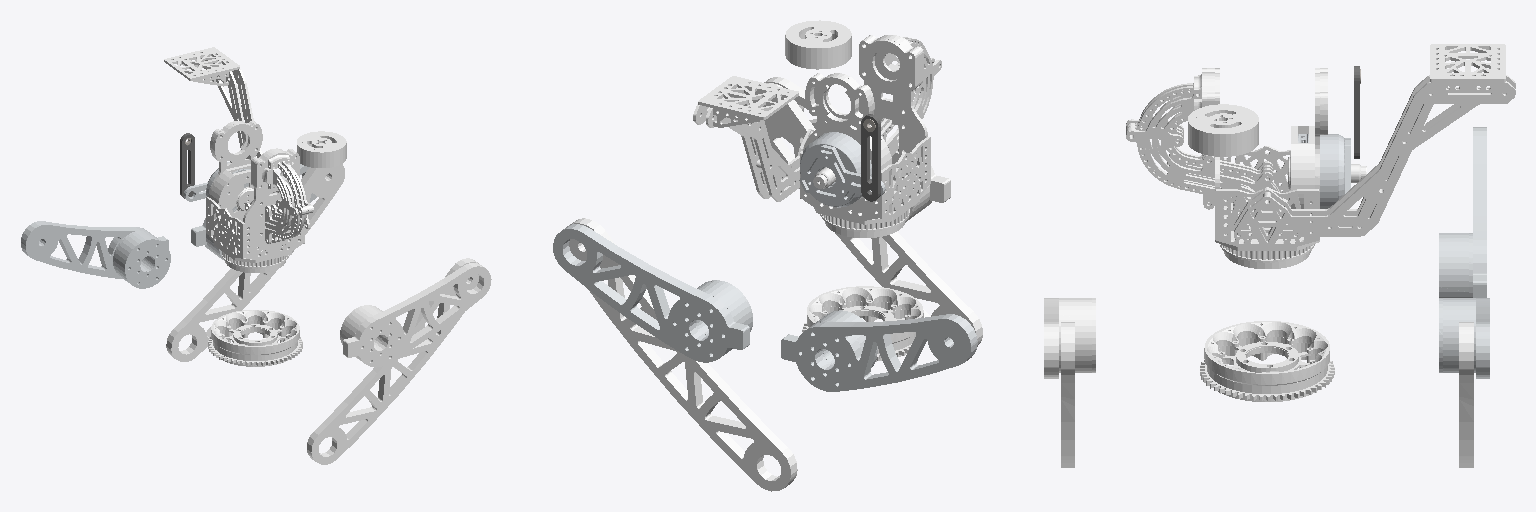
robot.urdf — RMInfantry_Complation_Vision.SLDASM:
<?xml version='1.0' encoding='utf-8'?>
<robot name="RMInfantry_Complation_Vision.SLDASM">
  <mujoco>
    <compiler meshdir="../meshes/" balanceinertia="true" discardvisual="false" />
  </mujoco>
  
  <link name="world" />
  <joint name="floating_base_joint" type="floating">
    <parent link="world" />
    <child link="base_link" />
  </joint>
  
  <link name="base_link">
    <inertial>
      <origin xyz="-0.003111 0.0015208 0.10627" rpy="0 0 0" />
      <mass value="16.77493621" />
      <inertia ixx="0.018047" ixy="6.8169E-06" ixz="-9.2205E-06" iyy="0.05196" iyz="1.6151E-05" izz="0.05484" />
    </inertial>
    <visual>
      <origin xyz="0 0 0" rpy="0 0 0" />
      <geometry>
        <mesh filename="../meshes/base_link.STL" />
      </geometry>
      <material name="">
        <color rgba="0.50196 0.50196 0.50196 1" />
      </material>
    </visual>
    <collision>
      <origin xyz="0 0 0" rpy="0 0 0" />
      <geometry>
        <mesh filename="../meshes/base_link.STL" />
      </geometry>
    </collision>
  </link>
  <link name="left_front_hip_link">
    <inertial>
      <origin xyz="0.032281 0.032438 0.011151" rpy="0 0 0" />
      <mass value="0.25279841" />
      <inertia ixx="0.00013252" ixy="-5.8425E-19" ixz="-0.00014865" iyy="0.00064137" iyz="3.8933E-18" izz="0.00052206" />
    </inertial>
    <visual>
      <origin xyz="0 0 0" rpy="0 0 0" />
      <geometry>
        <mesh filename="../meshes/left_front_hip_link.STL" />
      </geometry>
      <material name="">
        <color rgba="0.89804 0.91373 0.92549 1" />
      </material>
    </visual>
    <collision>
      <origin xyz="0 0 0" rpy="0 0 0" />
      <geometry>
        <mesh filename="../meshes/left_front_hip_link.STL" />
      </geometry>
    </collision>
  </link>
  <joint name="left_front_hip_joint" type="continuous">
    <origin xyz="0.065 0.1423 0.127" rpy="0 0 0" />
    <parent link="base_link" />
    <child link="left_front_hip_link" />
    <axis xyz="0 1 0" />
  </joint>
  <link name="left_front_knee_link">
    <inertial>
      <origin xyz="-0.089345 0.006 -0.086713" rpy="0 0 0" />
      <mass value="0.21937234" />
      <inertia ixx="0.00085145" ixy="-3.8325E-18" ixz="-0.00087832" iyy="0.0018691" iyz="-9.3363E-21" izz="0.0010229" />
    </inertial>
    <visual>
      <origin xyz="0 0 0" rpy="0 0 0" />
      <geometry>
        <mesh filename="../meshes/left_front_knee_link.STL" />
      </geometry>
      <material name="">
        <color rgba="1 1 1 1" />
      </material>
    </visual>
    <collision>
      <origin xyz="0 0 0" rpy="0 0 0" />
      <geometry>
        <mesh filename="../meshes/left_front_knee_link.STL" />
      </geometry>
    </collision>
  </link>
  <joint name="left_front_knee_joint" type="continuous">
    <origin xyz="0.12968 0.0194 0.047199" rpy="0 0 0" />
    <parent link="left_front_hip_link" />
    <child link="left_front_knee_link" />
    <axis xyz="0 1 0" />
  </joint>
  
  
  <link name="left_rear_hip_link">
    <inertial>
      <origin xyz="-0.0369979002010859 0.0309982603546195 0.0127965807004653" rpy="0 0 0" />
      <mass value="0.25816986" />
      <inertia ixx="0.000140702499108914" ixy="3.36923885329177E-19" ixz="0.000174370684953426" iyy="0.000715454259986006" iyz="-2.87113325481111E-18" izz="0.00058595009125451" />
    </inertial>
    <visual>
      <origin xyz="0 0 0" rpy="0 0 0" />
      <geometry>
        <mesh filename="../meshes/left_rear_hip_link.STL" />
      </geometry>
      <material name="">
        <color rgba="0.898039215686275 0.913725490196078 0.925490196078431 1" />
      </material>
    </visual>
    <collision>
      <origin xyz="0 0 0" rpy="0 0 0" />
      <geometry>
        <mesh filename="../meshes/left_rear_hip_link.STL" />
      </geometry>
    </collision>
  </link>
  <joint name="left_rear_hip_joint" type="continuous">
    <origin xyz="-0.065 0.1423 0.127" rpy="0 0 0" />
    <parent link="base_link" />
    <child link="left_rear_hip_link" />
    <axis xyz="0 1 0" />
  </joint>
  <link name="left_rear_knee_link">
    <inertial>
      <origin xyz="0.10163 0.02 -0.097327" rpy="0 0 0" />
      <mass value="0.22140128" />
      <inertia ixx="0.00094302" ixy="-2.1222E-17" ixz="0.00095354" iyy="0.0021043" iyz="-1.955E-17" izz="0.0011666" />
    </inertial>
    <visual>
      <origin xyz="0 0 0" rpy="0 0 0" />
      <geometry>
        <mesh filename="../meshes/left_rear_knee_link.STL" />
      </geometry>
      <material name="">
        <color rgba="1 1 1 1" />
      </material>
    </visual>
    <collision>
      <origin xyz="0 0 0" rpy="0 0 0" />
      <geometry>
        <mesh filename="../meshes/left_rear_knee_link.STL" />
      </geometry>
    </collision>
  </link>
  <joint name="left_rear_knee_joint" type="continuous">
    <origin xyz="-0.12968 0.0309 0.047199" rpy="0 0 0" />
    <parent link="left_rear_hip_link" />
    <child link="left_rear_knee_link" />
    <axis xyz="0 1 0" />
  </joint>
  <link name="left_chassis_wheel_link">
    <inertial>
      <origin xyz="-5.5954E-06 0.036068 -3.5474E-06" rpy="0 0 0" />
      <mass value="1.24506308" />
      <inertia ixx="0.0006003" ixy="3.2833E-08" ixz="1.2544E-08" iyy="0.0011204" iyz="-2.7525E-09" izz="0.0006003" />
    </inertial>
    <visual>
      <origin xyz="0 0 0" rpy="0 0 0" />
      <geometry>
        <mesh filename="../meshes/left_chassis_wheel_link.STL" />
      </geometry>
      <material name="">
        <color rgba="1 1 1 1" />
      </material>
    </visual>
    <collision>
      <origin xyz="0 0 0" rpy="0 0 0" />
      <geometry>
        <mesh filename="../meshes/left_chassis_wheel_link.STL" />
      </geometry>
    </collision>
  </link>
  <joint name="left_chassis_wheel_joint" type="continuous">
    <origin xyz="0.19468 0.013 -0.17534" rpy="0 0 0" />
    <parent link="left_rear_knee_link" />
    <child link="left_chassis_wheel_link" />
    <axis xyz="0 1 0" />
  </joint>
  
  <link name="right_front_hip_link">
    <inertial>
      <origin xyz="0.032281 -0.032438 0.011151" rpy="0 0 0" />
      <mass value="0.25279841" />
      <inertia ixx="0.00013252" ixy="-2.9699E-18" ixz="-0.00014865" iyy="0.00064137" iyz="3.4055E-18" izz="0.00052206" />
    </inertial>
    <visual>
      <origin xyz="0 0 0" rpy="0 0 0" />
      <geometry>
        <mesh filename="../meshes/right_front_hip_link.STL" />
      </geometry>
      <material name="">
        <color rgba="1 1 1 1" />
      </material>
    </visual>
    <collision>
      <origin xyz="0 0 0" rpy="0 0 0" />
      <geometry>
        <mesh filename="../meshes/right_front_hip_link.STL" />
      </geometry>
    </collision>
  </link>
  <joint name="right_front_hip_joint" type="continuous">
    <origin xyz="0.065000010549327 -0.142300000000003 0.127000001012436" rpy="0 0 0" />
    <parent link="base_link" />
    <child link="right_front_hip_link" />
    <axis xyz="0 -1 0" />
  </joint>
  <link name="right_front_knee_link">
    <inertial>
      <origin xyz="-0.089345 -0.006 -0.086713" rpy="0 0 0" />
      <mass value="0.21937234" />
      <inertia ixx="0.00085145" ixy="1.8229E-18" ixz="-0.00087832" iyy="0.0018691" iyz="1.675E-18" izz="0.0010229" />
    </inertial>
    <visual>
      <origin xyz="0 0 0" rpy="0 0 0" />
      <geometry>
        <mesh filename="../meshes/right_front_knee_link.STL" />
      </geometry>
      <material name="">
        <color rgba="1 1 1 1" />
      </material>
    </visual>
    <collision>
      <origin xyz="0 0 0" rpy="0 0 0" />
      <geometry>
        <mesh filename="../meshes/right_front_knee_link.STL" />
      </geometry>
    </collision>
  </link>
  <joint name="right_front_knee_joint" type="continuous">
    <origin xyz="0.12968 -0.0194 0.047199" rpy="0 0 0" />
    <parent link="right_front_hip_link" />
    <child link="right_front_knee_link" />
    <axis xyz="0 -1 0" />
  </joint>
  
  
  <link name="right_rear_hip_link">
    <inertial>
      <origin xyz="-0.036998 -0.030998 0.012797" rpy="0 0 0" />
      <mass value="0.25816986" />
      <inertia ixx="0.0001407" ixy="-2.4611E-18" ixz="0.00017437" iyy="0.00071545" iyz="-1.1802E-18" izz="0.00058595" />
    </inertial>
    <visual>
      <origin xyz="0 0 0" rpy="0 0 0" />
      <geometry>
        <mesh filename="../meshes/right_rear_hip_link.STL" />
      </geometry>
      <material name="">
        <color rgba="0.89804 0.91373 0.92549 1" />
      </material>
    </visual>
    <collision>
      <origin xyz="0 0 0" rpy="0 0 0" />
      <geometry>
        <mesh filename="../meshes/right_rear_hip_link.STL" />
      </geometry>
    </collision>
  </link>
  <joint name="right_rear_hip_joint" type="continuous">
    <origin xyz="-0.065 -0.1423 0.127" rpy="0 0 0" />
    <parent link="base_link" />
    <child link="right_rear_hip_link" />
    <axis xyz="0 -1 0" />
  </joint>
  <link name="right_rear_knee_link">
    <inertial>
      <origin xyz="0.10163 -0.02 -0.097327" rpy="0 0 0" />
      <mass value="0.22140128" />
      <inertia ixx="0.00094302" ixy="-1.7521E-17" ixz="0.00095354" iyy="0.0021043" iyz="-2.4388E-17" izz="0.0011666" />
    </inertial>
    <visual>
      <origin xyz="0 0 0" rpy="0 0 0" />
      <geometry>
        <mesh filename="../meshes/right_rear_knee_link.STL" />
      </geometry>
      <material name="">
        <color rgba="1 1 1 1" />
      </material>
    </visual>
    <collision>
      <origin xyz="0 0 0" rpy="0 0 0" />
      <geometry>
        <mesh filename="../meshes/right_rear_knee_link.STL" />
      </geometry>
    </collision>
  </link>
  <joint name="right_rear_knee_joint" type="continuous">
    <origin xyz="-0.12968 -0.0309 0.047199" rpy="0 0 0" />
    <parent link="right_rear_hip_link" />
    <child link="right_rear_knee_link" />
    <axis xyz="0 -1 0" />
  </joint>
  <link name="right_chassis_wheel_link">
    <inertial>
      <origin xyz="1.7764E-06 -0.036068 6.3825E-06" rpy="0 0 0" />
      <mass value="1.24506308" />
      <inertia ixx="0.00060029" ixy="-1.2136E-08" ixz="8.6961E-09" iyy="0.0011204" iyz="3.0631E-08" izz="0.00060031" />
    </inertial>
    <visual>
      <origin xyz="0 0 0" rpy="0 0 0" />
      <geometry>
        <mesh filename="../meshes/right_chassis_wheel_link.STL" />
      </geometry>
      <material name="">
        <color rgba="1 1 1 1" />
      </material>
    </visual>
    <collision>
      <origin xyz="0 0 0" rpy="0 0 0" />
      <geometry>
        <mesh filename="../meshes/right_chassis_wheel_link.STL" />
      </geometry>
    </collision>
  </link>
  <joint name="right_chassis_wheel_joint" type="continuous">
    <origin xyz="0.19468 -0.013 -0.17534" rpy="0 0 0" />
    <parent link="right_rear_knee_link" />
    <child link="right_chassis_wheel_link" />
    <axis xyz="0 -1 0" />
  </joint>
  
  <link name="gimbal_yaw_link">
    <inertial>
      <origin xyz="0.0063949 0.01356 0.072584" rpy="0 0 0" />
      <mass value="0.70223299" />
      <inertia ixx="0.0011712" ixy="3.0488E-07" ixz="1.7288E-07" iyy="0.00075986" iyz="-0.00018026" izz="0.00081056" />
    </inertial>
    <visual>
      <origin xyz="0 0 0" rpy="0 0 0" />
      <geometry>
        <mesh filename="../meshes/gimbal_yaw_link.STL" />
      </geometry>
      <material name="">
        <color rgba="1 1 1 1" />
      </material>
    </visual>
    <collision>
      <origin xyz="0 0 0" rpy="0 0 0" />
      <geometry>
        <mesh filename="../meshes/gimbal_yaw_link.STL" />
      </geometry>
    </collision>
  </link>
  <joint name="gimbal_yaw_joint" type="continuous">
    <origin xyz="0 0 0.179" rpy="0 0 0" />
    <parent link="base_link" />
    <child link="gimbal_yaw_link" />
    <axis xyz="0 0 1" />
  </joint>
  <link name="gimbal_pitch_motor_link">
    <inertial>
      <origin xyz="-0.00079938 0.00028082 -0.00010689" rpy="0 0 0" />
      <mass value="0.48928842" />
      <inertia ixx="9.5868E-05" ixy="1.2343E-08" ixz="4.6016E-08" iyy="0.00016404" iyz="-4.8477E-07" izz="0.000104" />
    </inertial>
    <visual>
      <origin xyz="0 0 0" rpy="0 0 0" />
      <geometry>
        <mesh filename="../meshes/gimbal_pitch_motor_link.STL" />
      </geometry>
      <material name="">
        <color rgba="0.89412 0.9098 0.92549 1" />
      </material>
    </visual>
    <collision>
      <origin xyz="0 0 0" rpy="0 0 0" />
      <geometry>
        <mesh filename="../meshes/gimbal_pitch_motor_link.STL" />
      </geometry>
    </collision>
  </link>
  <joint name="gimbal_pitch_motor_joint" type="continuous">
    <origin xyz="0 0.04735 0.068" rpy="0 0 0" />
    <parent link="gimbal_yaw_link" />
    <child link="gimbal_pitch_motor_link" />
    <axis xyz="0 1 0" />
  </joint>
  <link name="gimbal_pitch_motor_chrild1_link">
    <inertial>
      <origin xyz="0 0.0025 0.031929" rpy="0 0 0" />
      <mass value="0.013666" />
      <inertia ixx="7.9145E-06" ixy="1.2294E-23" ixz="1.6679E-21" iyy="8.3333E-06" iyz="1.7252E-21" izz="4.7575E-07" />
    </inertial>
    <visual>
      <origin xyz="0 0 0" rpy="0 0 0" />
      <geometry>
        <mesh filename="../meshes/gimbal_pitch_motor_chrild1_link.STL" />
      </geometry>
      <material name="">
        <color rgba="0.50196 0.50196 0.50196 1" />
      </material>
    </visual>
    <collision>
      <origin xyz="0 0 0" rpy="0 0 0" />
      <geometry>
        <mesh filename="../meshes/gimbal_pitch_motor_chrild1_link.STL" />
      </geometry>
    </collision>
  </link>
  <joint name="gimbal_pitch_motor_chrild1_joint" type="continuous">
    <origin xyz="-0.05 0.02585 0" rpy="0 0 0" />
    <parent link="gimbal_pitch_motor_link" />
    <child link="gimbal_pitch_motor_chrild1_link" />
    <axis xyz="0 1 0" />
  </joint>
  <link name="gimbal_pitch_motor_chrild2_link">
    <inertial>
      <origin xyz="-1.90125692967058E-15 0.00695454545454546 -5.55111512312578E-17" rpy="0 0 0" />
      <mass value="0.000259181393921158" />
      <inertia ixx="2.65469197905038E-09" ixy="-8.32345721873143E-25" ixz="-3.1833259621698E-25" iyy="4.62955401783886E-09" iyz="6.12280255373811E-26" izz="2.65469197905038E-09" />
    </inertial>
    <visual>
      <origin xyz="0 0 0" rpy="0 0 0" />
      <geometry>
        <mesh filename="../meshes/gimbal_pitch_motor_chrild2_link.STL" />
      </geometry>
      <material name="">
        <color rgba="0.772549019607843 0.752941176470588 0.733333333333333 1" />
      </material>
    </visual>
    <collision>
      <origin xyz="0 0 0" rpy="0 0 0" />
      <geometry>
        <mesh filename="../meshes/gimbal_pitch_motor_chrild2_link.STL" />
      </geometry>
    </collision>
  </link>
  <joint name="gimbal_pitch_motor_chrild2_joint" type="fixed">
    <origin xyz="0 -0.00285 0.067" rpy="0 0 0" />
    <parent link="gimbal_pitch_motor_chrild1_link" />
    <child link="gimbal_pitch_motor_chrild2_link" />
    <axis xyz="0 1 0" />
  </joint>
  <link name="gimbal_pitch_link">
    <inertial>
      <origin xyz="0.00570445411307587 -0.0357202631780137 0.0241584830663755" rpy="0 0 0" />
      <mass value="2.23648116" />
      <inertia ixx="0.00113734474641569" ixy="-6.04664308296285E-06" ixz="-0.000210962920027997" iyy="0.00190756636329975" iyz="-1.26424750051048E-06" izz="0.00229904338857953" />
    </inertial>
    <visual>
      <origin xyz="0 0 0" rpy="0 0 0" />
      <geometry>
        <mesh filename="../meshes/gimbal_pitch_link.STL" />
      </geometry>
      <material name="">
        <color rgba="1 1 1 1" />
      </material>
    </visual>
    <collision>
      <origin xyz="0 0 0" rpy="0 0 0" />
      <geometry>
        <mesh filename="../meshes/gimbal_pitch_link.STL" />
      </geometry>
    </collision>
  </link>
  <joint name="gimbal_pitch_joint" type="continuous">
    <origin xyz="0 0.043 0.135" rpy="0 0 0" />
    <parent link="gimbal_yaw_link" />
    <child link="gimbal_pitch_link" />
    <axis xyz="0 1 0" />
  </joint>
  <link name="left_frition_wheel_link">
    <inertial>
      <origin xyz="-4.85722573273506E-16 -4.92661467177413E-16 -0.00963369941828784" rpy="0 0 0" />
      <mass value="0.0352426065326721" />
      <inertia ixx="1.22538290554149E-05" ixy="3.2156776745501E-08" ixz="2.05157400208698E-20" iyy="1.21074986152895E-05" iyz="-3.31341520961207E-21" izz="2.16795499210052E-05" />
    </inertial>
    <visual>
      <origin xyz="0 0 0" rpy="0 0 0" />
      <geometry>
        <mesh filename="../meshes/left_frition_wheel_link.STL" />
      </geometry>
      <material name="">
        <color rgba="1 1 1 1" />
      </material>
    </visual>
    <collision>
      <origin xyz="0 0 0" rpy="0 0 0" />
      <geometry>
        <mesh filename="../meshes/left_frition_wheel_link.STL" />
      </geometry>
    </collision>
  </link>
  <joint name="left_frition_wheel_joint" type="continuous">
    <origin xyz="0.07 -0.006 0.0161" rpy="0 0 0" />
    <parent link="gimbal_pitch_link" />
    <child link="left_frition_wheel_link" />
    <axis xyz="0 0 1" />
  </joint>
  <link name="right_frition_wheel_link">
    <inertial>
      <origin xyz="-5.13478148889135E-16 -4.85722573273506E-16 -0.0096336994182879" rpy="0 0 0" />
      <mass value="0.0352426065326721" />
      <inertia ixx="1.22538290554149E-05" ixy="3.21567767455035E-08" ixz="1.99356379167021E-20" iyy="1.21074986152895E-05" iyz="-5.55703725238919E-21" izz="2.16795499210052E-05" />
    </inertial>
    <visual>
      <origin xyz="0 0 0" rpy="0 0 0" />
      <geometry>
        <mesh filename="../meshes/right_frition_wheel_link.STL" />
      </geometry>
      <material name="">
        <color rgba="1 1 1 1" />
      </material>
    </visual>
    <collision>
      <origin xyz="0 0 0" rpy="0 0 0" />
      <geometry>
        <mesh filename="../meshes/right_frition_wheel_link.STL" />
      </geometry>
    </collision>
  </link>
  <joint name="right_frition_wheel_joint" type="continuous">
    <origin xyz="0.07 -0.08 0.0161" rpy="0 0 0" />
    <parent link="gimbal_pitch_link" />
    <child link="right_frition_wheel_link" />
    <axis xyz="0 0 1" />
  </joint>
  
  <link name="feeder_desk_link">
    <inertial>
      <origin xyz="1.8898E-08 -8.1704E-09 -0.0047462" rpy="0 0 0" />
      <mass value="0.069902" />
      <inertia ixx="7.3556E-05" ixy="5.3205E-12" ixz="1.851E-12" iyy="7.3556E-05" iyz="-2.29E-12" izz="0.00014644" />
    </inertial>
    <visual>
      <origin xyz="0 0 0" rpy="0 0 0" />
      <geometry>
        <mesh filename="../meshes/feeder_desk_link.STL" />
      </geometry>
      <material name="">
        <color rgba="1 1 1 1" />
      </material>
    </visual>
    <collision>
      <origin xyz="0 0 0" rpy="0 0 0" />
      <geometry>
        <mesh filename="../meshes/feeder_desk_link.STL" />
      </geometry>
    </collision>
  </link>
  <joint name="feeder_desk_joint" type="continuous">
    <origin xyz="0 0 0.076" rpy="0 0 0" />
    <parent link="base_link" />
    <child link="feeder_desk_link" />
    <axis xyz="0 0 1" />
  </joint>
</robot>

--- Render facts (derived) ---
Views: 3 orthographic renders of the robot side by side, from view 1: azimuth 30°, elevation 25°; view 2: azimuth 150°, elevation 25°; view 3: azimuth 270°, elevation 25°.
Model RMInfantry_Complation_Vision.SLDASM with 20 links and 19 joints (17 continuous, 1 fixed, 1 floating), rooted at world, posed all joints at 0.
Links seen in each view (by area): view 1: gimbal_yaw_link, right_front_hip_link, left_rear_hip_link, right_front_knee_link, left_front_knee_link, feeder_desk_link, right_frition_wheel_link, gimbal_pitch_motor_chrild1_link, left_front_hip_link; view 2: gimbal_yaw_link, left_front_hip_link, left_rear_hip_link, left_front_knee_link, right_front_knee_link, feeder_desk_link, gimbal_pitch_motor_link, right_frition_wheel_link, gimbal_pitch_motor_chrild1_link, right_front_hip_link; view 3: gimbal_yaw_link, feeder_desk_link, left_rear_hip_link, right_frition_wheel_link, right_front_hip_link, left_front_hip_link, left_front_knee_link, gimbal_pitch_motor_link, right_front_knee_link, gimbal_pitch_motor_chrild1_link.
Boxes of the visible links, box(x1,y1,x2,y2) form: gimbal_yaw_link: box(164, 47, 313, 272); right_front_hip_link: box(340, 263, 491, 367); left_rear_hip_link: box(21, 221, 170, 288); right_front_knee_link: box(307, 258, 478, 464); left_front_knee_link: box(166, 164, 344, 361); feeder_desk_link: box(208, 310, 302, 366); right_frition_wheel_link: box(297, 131, 346, 167); gimbal_pitch_motor_chrild1_link: box(180, 133, 194, 198); left_front_hip_link: box(191, 164, 316, 260); gimbal_yaw_link: box(693, 35, 941, 237); left_front_hip_link: box(553, 224, 752, 362); left_rear_hip_link: box(781, 310, 977, 391); left_front_knee_link: box(569, 218, 797, 491); right_front_knee_link: box(757, 83, 982, 346); feeder_desk_link: box(802, 286, 923, 361); gimbal_pitch_motor_link: box(799, 132, 885, 207); right_frition_wheel_link: box(785, 20, 851, 69); gimbal_pitch_motor_chrild1_link: box(861, 114, 880, 201); right_front_hip_link: box(764, 77, 950, 222); gimbal_yaw_link: box(1126, 44, 1515, 268); feeder_desk_link: box(1200, 321, 1334, 401); left_rear_hip_link: box(1439, 127, 1486, 297); right_frition_wheel_link: box(1188, 104, 1258, 156); right_front_hip_link: box(1044, 298, 1095, 378); left_front_hip_link: box(1439, 298, 1489, 378); left_front_knee_link: box(1459, 322, 1473, 467); gimbal_pitch_motor_link: box(1298, 134, 1350, 208); right_front_knee_link: box(1061, 322, 1074, 467); gimbal_pitch_motor_chrild1_link: box(1354, 66, 1359, 158).
Bounding box of the posed robot: 0.4353 × 0.3967 × 0.386 m (x, y, z).
11 mesh visuals loaded from 19 distinct referenced files (11 binary STL); not drawn: 8 (reference not matched to a file when rendering).
